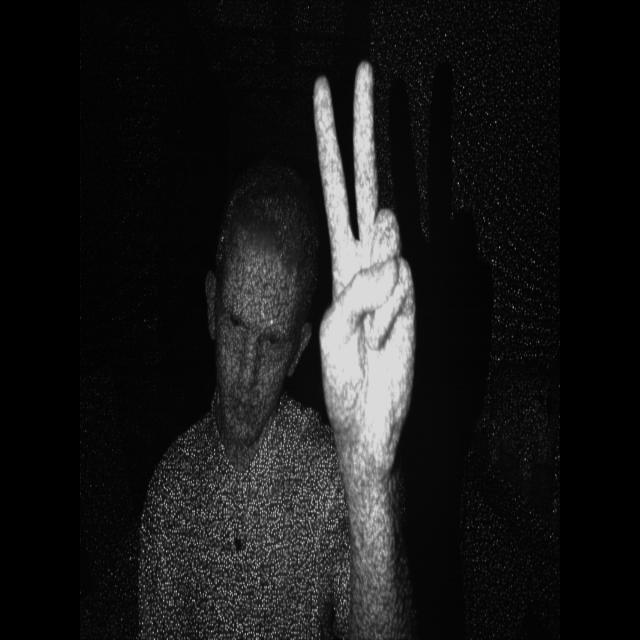V: (288, 41, 429, 467)
